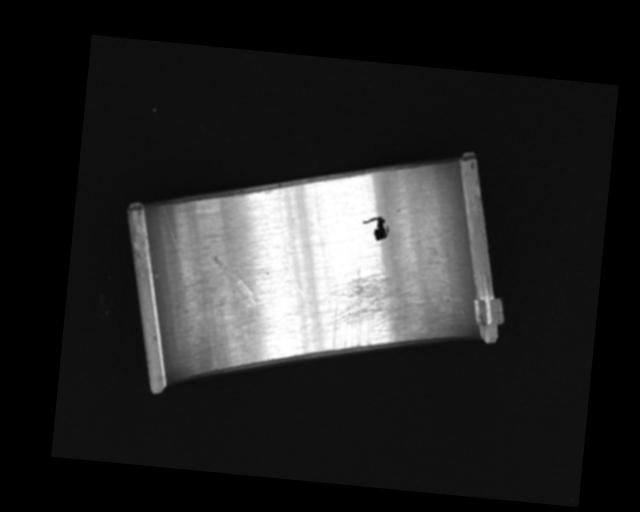blot: (360, 213, 390, 242)
nick: (266, 186, 318, 300), (153, 202, 202, 288), (209, 256, 260, 302), (241, 291, 259, 351)
scratch: (321, 266, 445, 358)
